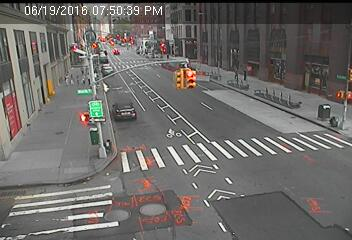neg: (267, 70, 287, 96), (27, 97, 46, 122), (262, 29, 281, 54), (239, 98, 255, 120), (320, 134, 335, 154), (318, 103, 332, 122), (124, 58, 137, 76), (156, 90, 169, 107), (305, 159, 318, 176), (79, 173, 91, 189), (178, 80, 190, 95), (251, 175, 263, 190), (118, 105, 129, 120), (181, 133, 192, 148), (198, 184, 209, 199), (48, 173, 59, 188), (295, 61, 306, 76), (303, 17, 314, 32), (87, 123, 97, 137), (205, 99, 214, 112), (149, 196, 158, 209), (274, 122, 283, 134), (224, 26, 233, 38), (317, 44, 326, 56), (185, 28, 194, 39), (304, 100, 312, 110), (239, 134, 246, 143), (147, 36, 153, 43)
pos: (83, 68, 98, 88), (228, 66, 242, 83), (77, 69, 90, 86), (239, 68, 250, 83), (60, 71, 71, 86), (72, 70, 82, 84), (66, 73, 75, 85)
